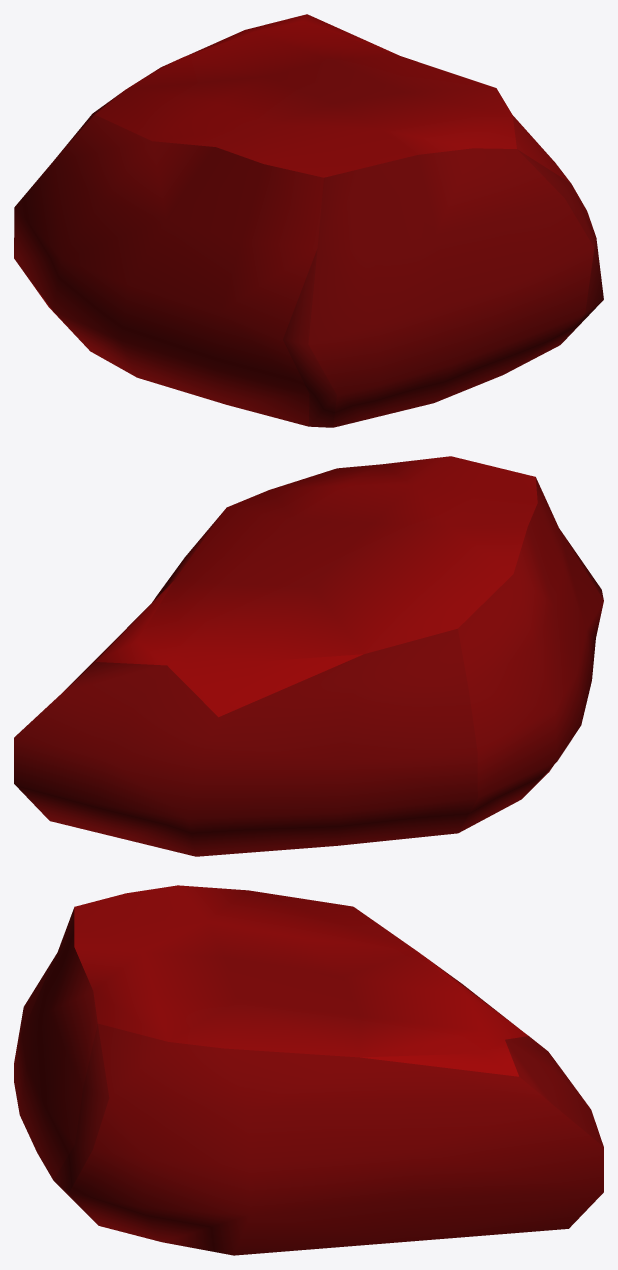
File: geology-rocks-rocksmall_v5.fbx
The picture shows the model from 3 angles, top to bottom: view 1: azimuth 30°, elevation 25°; view 2: azimuth 150°, elevation 25°; view 3: azimuth 270°, elevation 25°; orthographic projection. The views are drawn at different scales.
Visible parts, largest first — view 1: RockSmall_v5; view 2: RockSmall_v5; view 3: RockSmall_v5.
Part boxes in pixels (x1,y1,x2,y2): RockSmall_v5: [14, 14, 603, 427]; RockSmall_v5: [14, 456, 603, 856]; RockSmall_v5: [14, 885, 603, 1255].
Size of the model in its own units: 1.55 by 0.7977 by 1.87.
